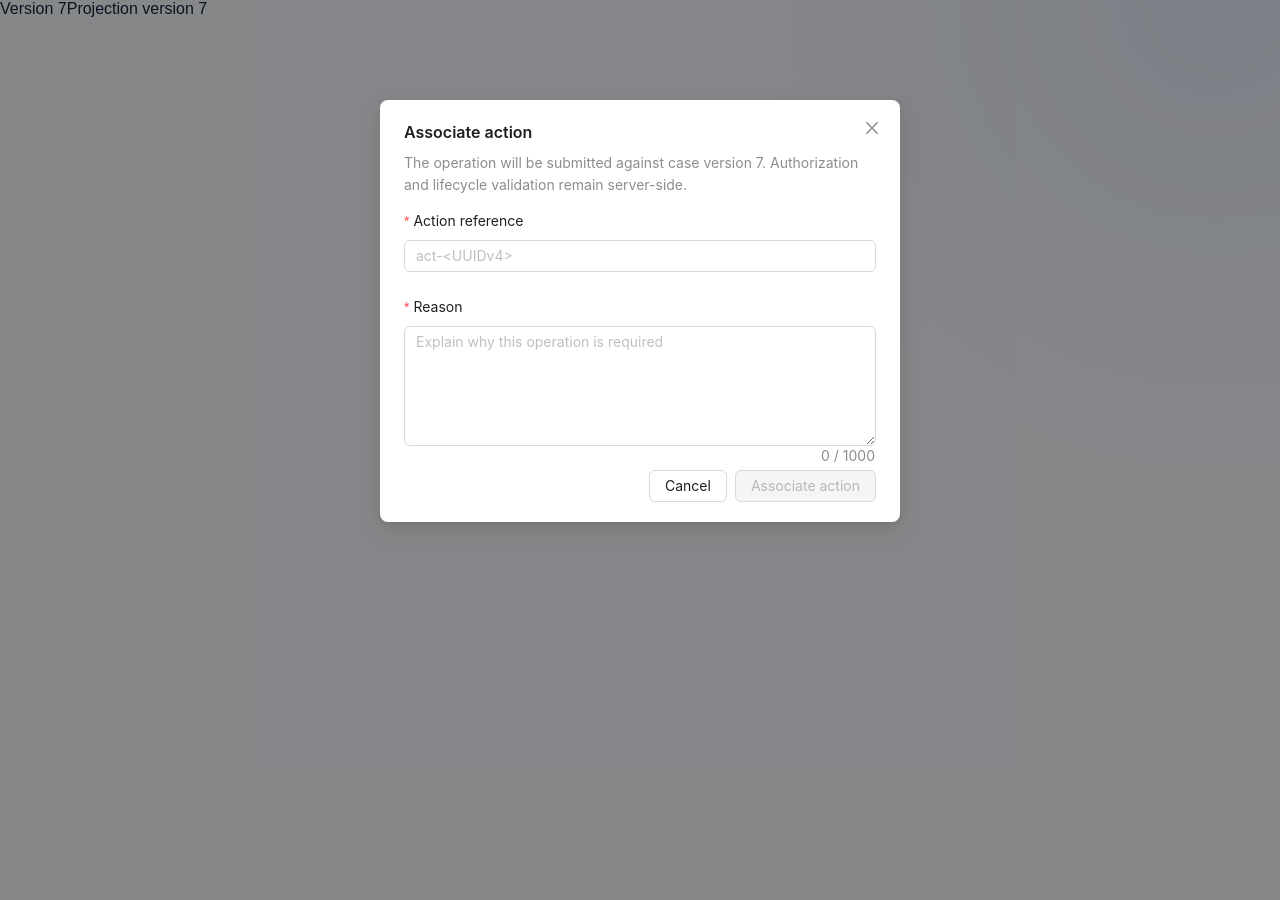
Q-018 association action registry and runner › associateAction disables submission while its request is pending
The width and height of the screenshot is (1280, 900).
Type "act-18000000-0000-4000-8000-000000000001" into the field labelled "Action reference" at [640, 256], box [404, 240, 876, 272]
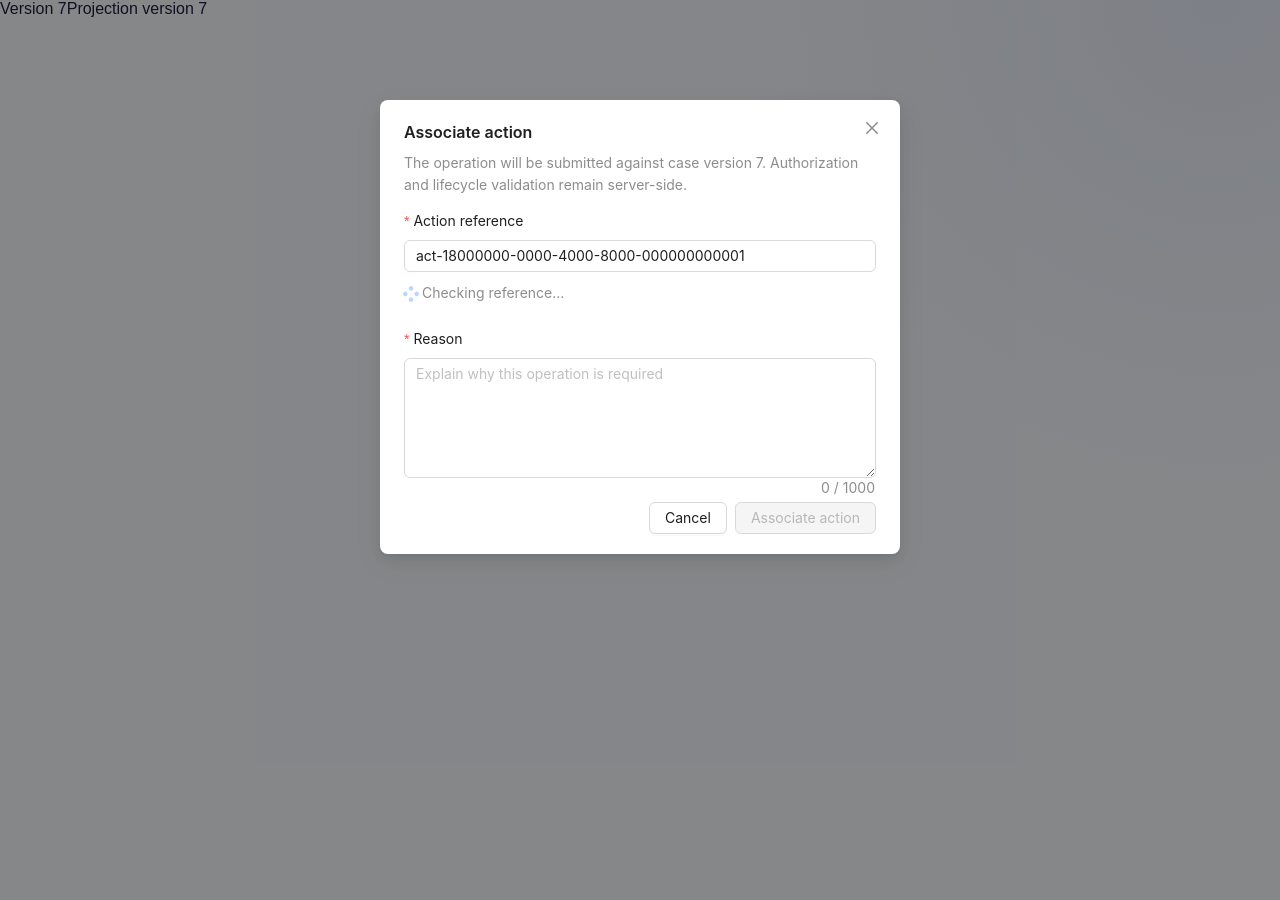
Type "Attach reviewed action." into the text box labelled "Reason" at [640, 418], box [405, 359, 875, 477]
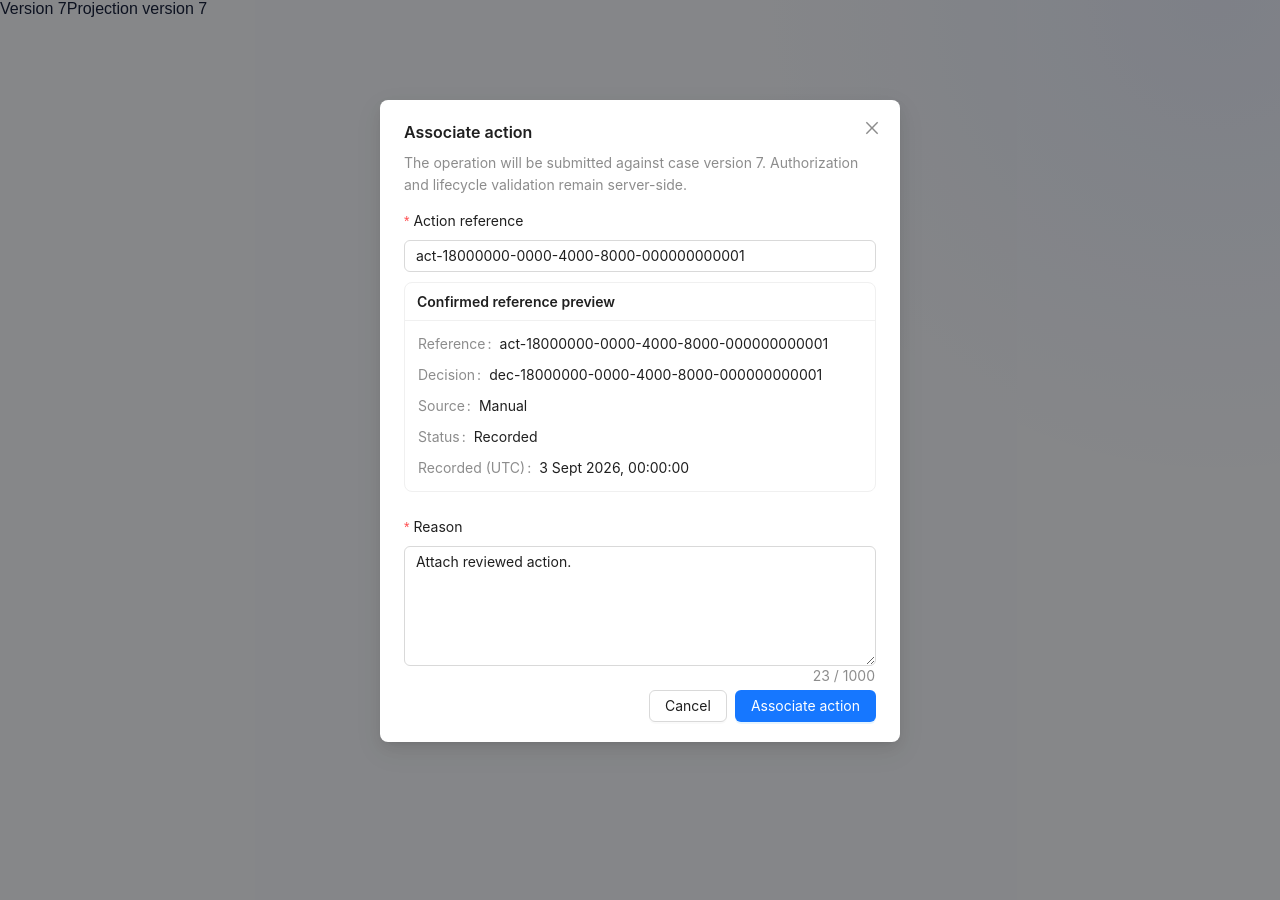
Result: the text "Confirmed reference preview" is shown at [417, 292, 615, 310]
Click the button "Associate action" at [805, 706], box [735, 690, 876, 722]
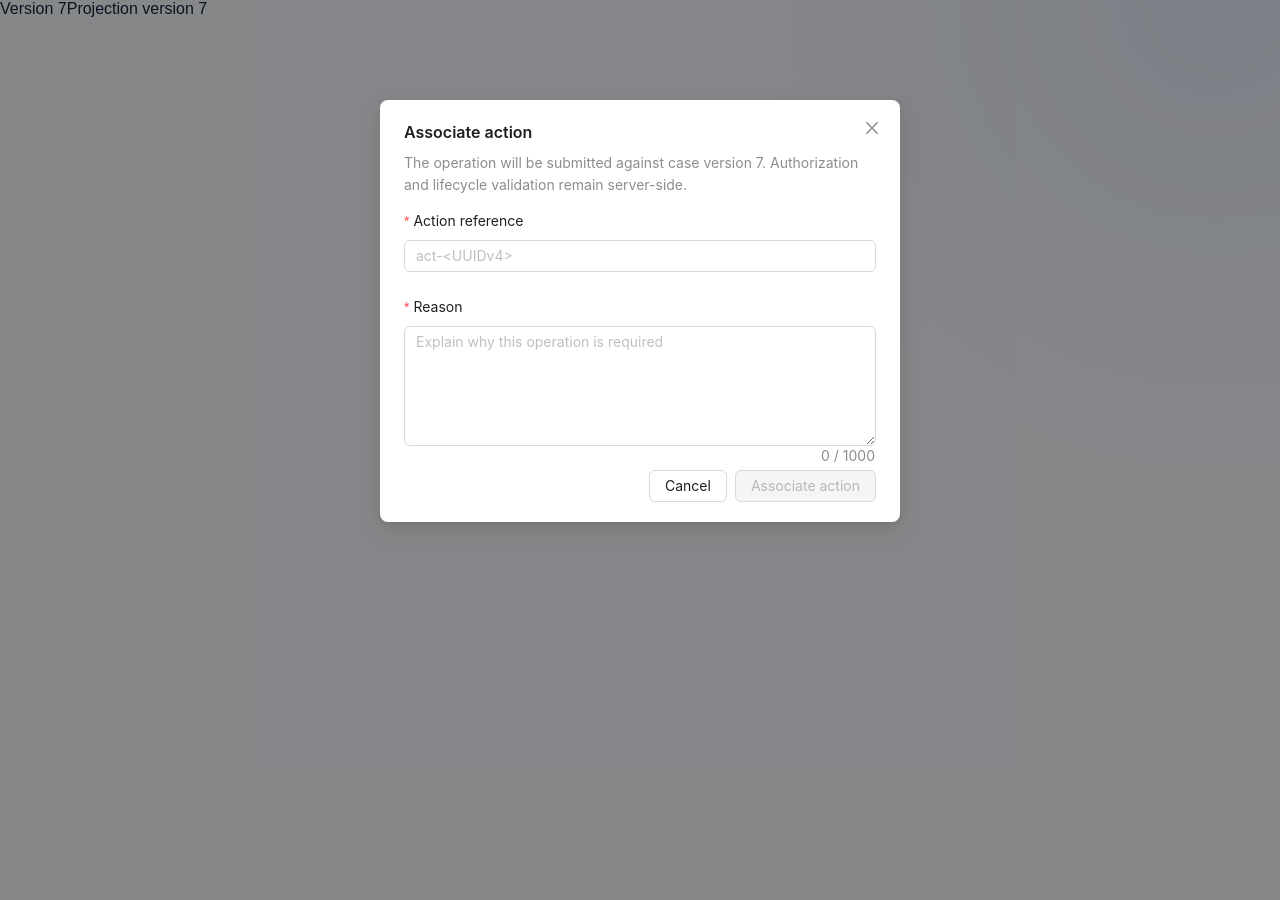
Result: the button "Associate action" is disabled at [735, 470, 876, 502]
